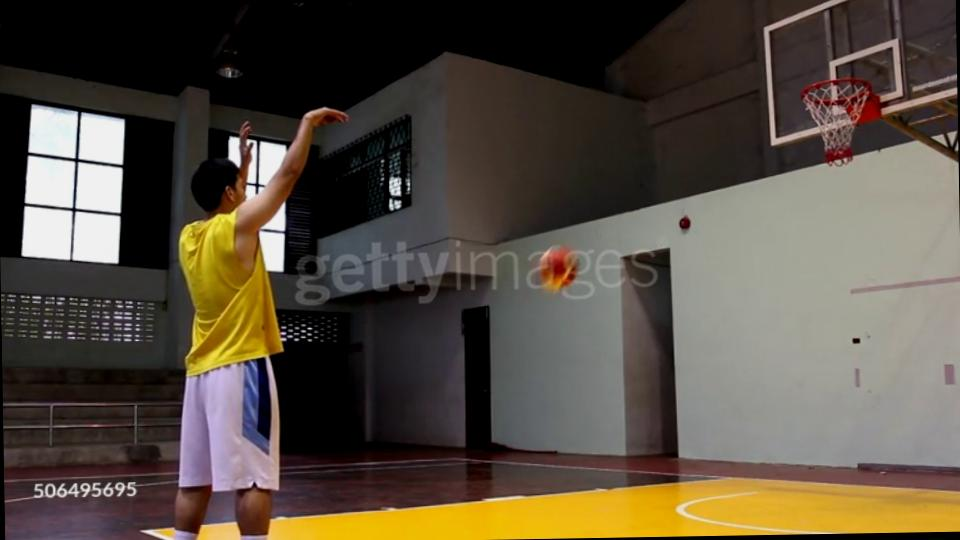hoop: (796, 76, 872, 110)
